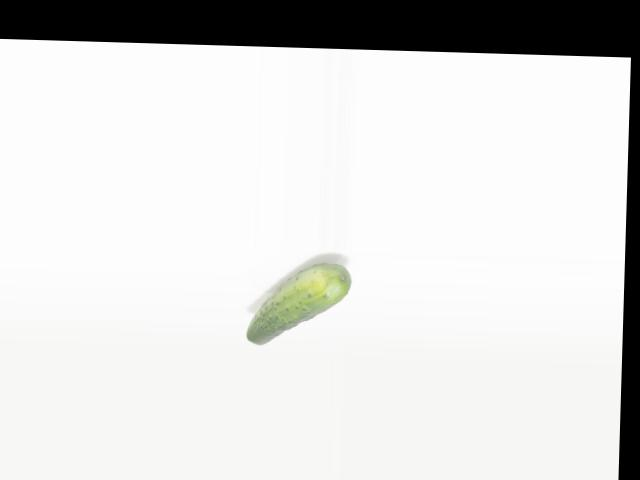cucumber: (245, 261, 350, 347)
